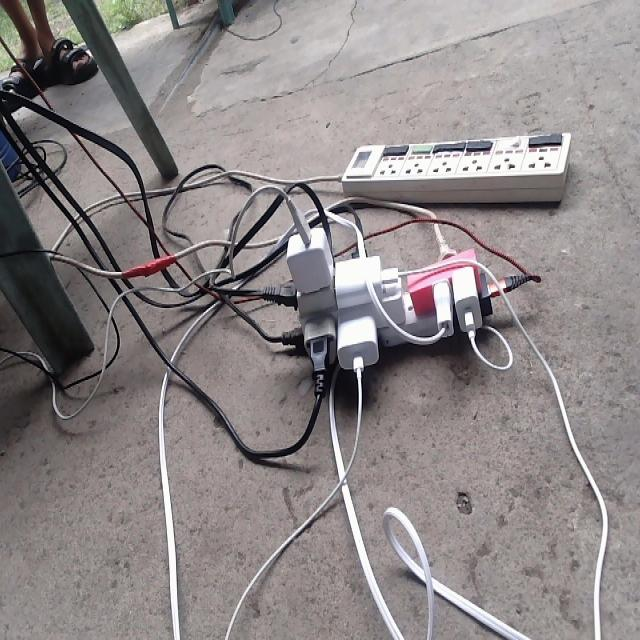-: (253, 188, 512, 405)
